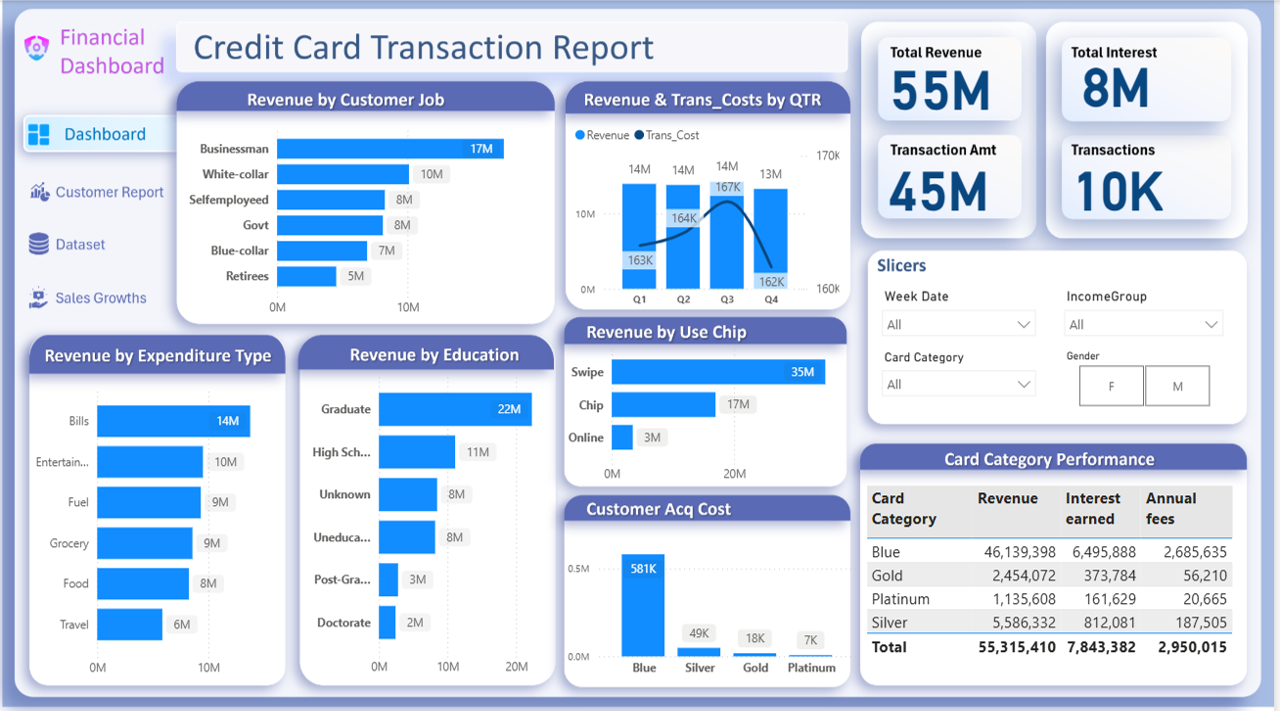

This screenshot's page, from the dashboard's own definition file:
{"tool":"powerbi","page":{"name":"Dashboard","canvas":[1366,768],"ordinal":0},"visuals":[{"type":"cardVisual","fields":{"Data":["Sum(public cc_detail.Revenue)"]},"box":[202.1,117.2,199.2,93.7],"z":0},{"type":"cardVisual","fields":{"Data":["Sum(public cc_detail.Total_Trans_Amt)"]},"box":[213.8,232.8,215.3,93.7],"z":1000},{"type":"cardVisual","fields":{"Data":["Sum(public cc_detail.Interest_Earned)"]},"box":[401.2,111.3,235.8,104],"z":2000},{"type":"cardVisual","fields":{"Data":["public cc_detail.Transactions"]},"box":[401.2,235.8,215.3,90.8],"z":3000},{"type":"slicer","fields":{"Values":["public cc_detail.Week_Start_Date"]},"box":[1159.8,121.5,165.5,76.1],"z":4000},{"type":"slicer","fields":{"Values":["public cust_detail.IncomeGroup"]},"box":[992.9,121.5,166.9,70.3],"z":5000},{"type":"slicer","fields":{"Values":["public cc_detail.Card_Category"]},"box":[992.9,187.4,338.3,63],"z":6000},{"type":"clusteredBarChart","fields":{"Category":["public cust_detail.Customer_Job"],"Y":["Sum(public cc_detail.Revenue)"]},"box":[631.2,111.3,345.6,215.3],"z":7000},{"type":"clusteredBarChart","fields":{"Category":["public cc_detail.Exp Type"],"Y":["Sum(public cc_detail.Revenue)"]},"box":[980,292.9,345.7,267.1],"z":8000},{"type":"clusteredColumnChart","fields":{"Category":["public cust_detail.AgeGroup"],"Y":["Sum(public cc_detail.Revenue)"]},"box":[631.4,368.6,361.4,191.4],"z":9000},{"type":"clusteredBarChart","fields":{"Category":["public cc_detail.Use Chip"],"Y":["Sum(public cc_detail.Revenue)"]},"box":[340,384.3,291.4,175.7],"z":10000},{"type":"clusteredBarChart","fields":{"Category":["public cust_detail.state_cd"],"Y":["Sum(public cc_detail.Revenue)"]},"box":[48.7,375,290.8,192.1],"z":11000},{"type":"actionButton","box":[48.1,178.5,154.4,40.5],"z":12000},{"type":"actionButton","box":[48.1,240.5,154.4,40.5],"z":13000},{"type":"actionButton","box":[48.1,293.7,154.4,40.5],"z":14000}]}

Visuals, with their boxes in screenshot pixels (x1, y1, x2, y2), scaled from the page's 1366x768 canvas onto the 1280x711 screenshot:
cardVisual - Sum(public cc_detail.Revenue): [189,109,376,195]
cardVisual - Sum(public cc_detail.Total_Trans_Amt): [200,216,402,302]
cardVisual - Sum(public cc_detail.Interest_Earned): [376,103,597,199]
cardVisual - public cc_detail.Transactions: [376,218,578,302]
slicer - public cc_detail.Week_Start_Date: [1087,112,1242,183]
slicer - public cust_detail.IncomeGroup: [930,112,1087,178]
slicer - public cc_detail.Card_Category: [930,173,1247,232]
clusteredBarChart - public cust_detail.Customer_Job x Sum(public cc_detail.Revenue): [591,103,915,302]
clusteredBarChart - public cc_detail.Exp Type x Sum(public cc_detail.Revenue): [918,271,1242,518]
clusteredColumnChart - public cust_detail.AgeGroup x Sum(public cc_detail.Revenue): [592,341,930,518]
clusteredBarChart - public cc_detail.Use Chip x Sum(public cc_detail.Revenue): [319,356,592,518]
clusteredBarChart - public cust_detail.state_cd x Sum(public cc_detail.Revenue): [46,347,318,525]
actionButton: [45,165,190,203]
actionButton: [45,223,190,260]
actionButton: [45,272,190,309]
